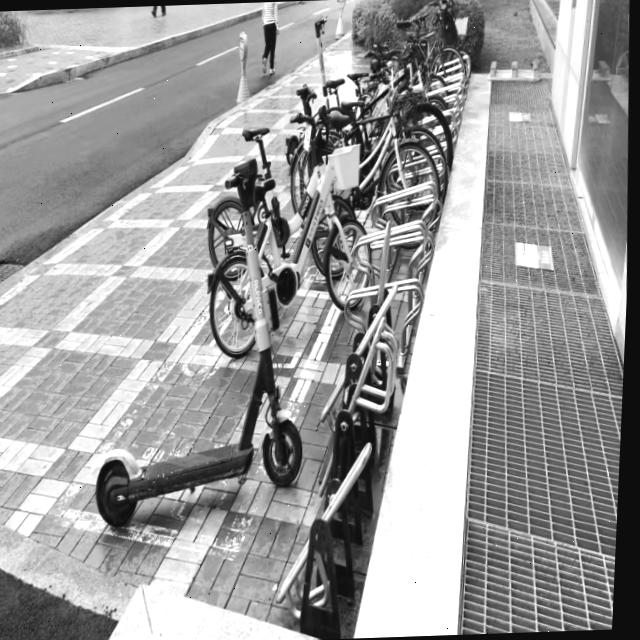ebike_ok: (289, 126, 385, 332)
kickboard_ok: (94, 428, 318, 530)
